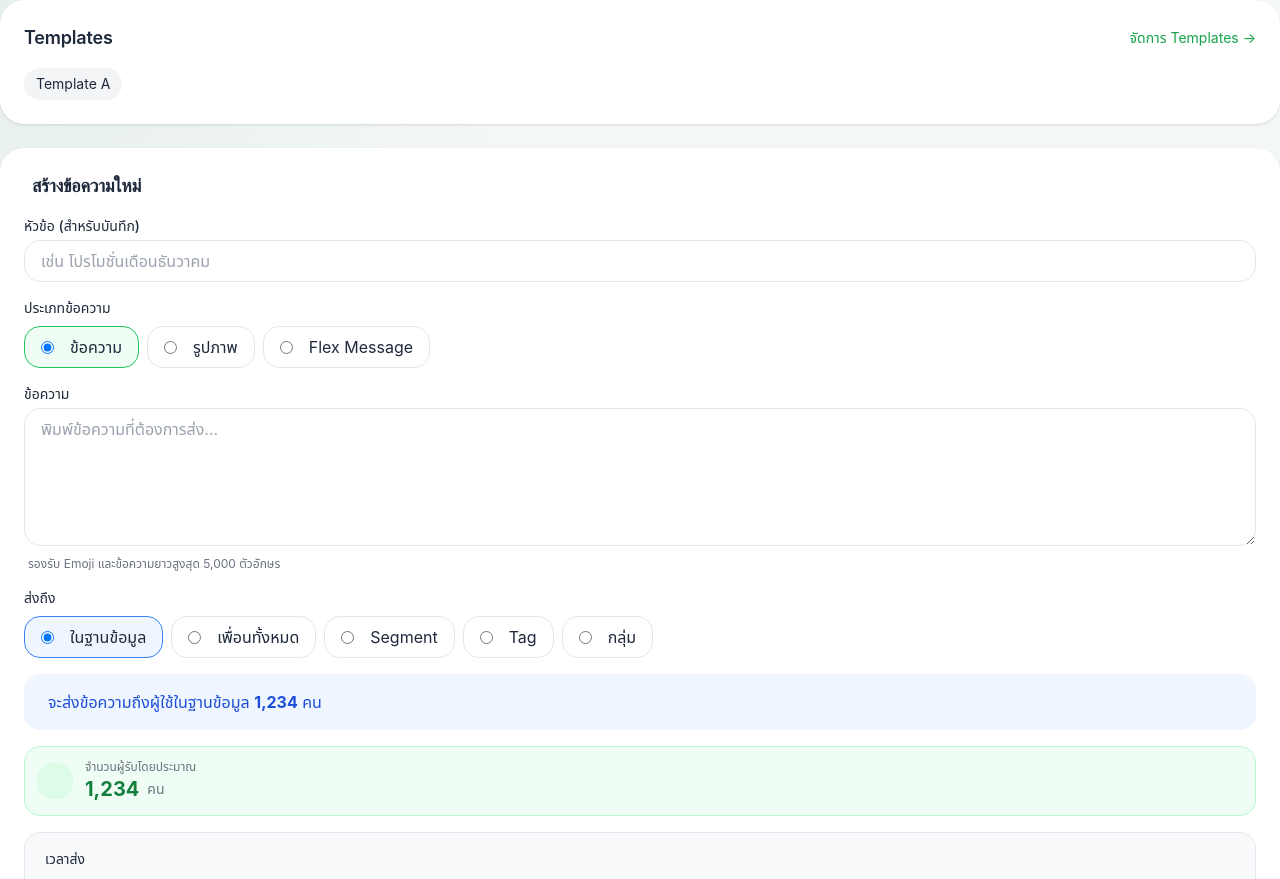
Test: SendComposeForm — message type switching + template quick-load › clicking a template button loads its content into the text textarea and switches message_type
The image size is (1280, 879).
Click the radio button labelled "Flex Message" at (286,347), box x1=280 y1=340 x2=293 y2=354
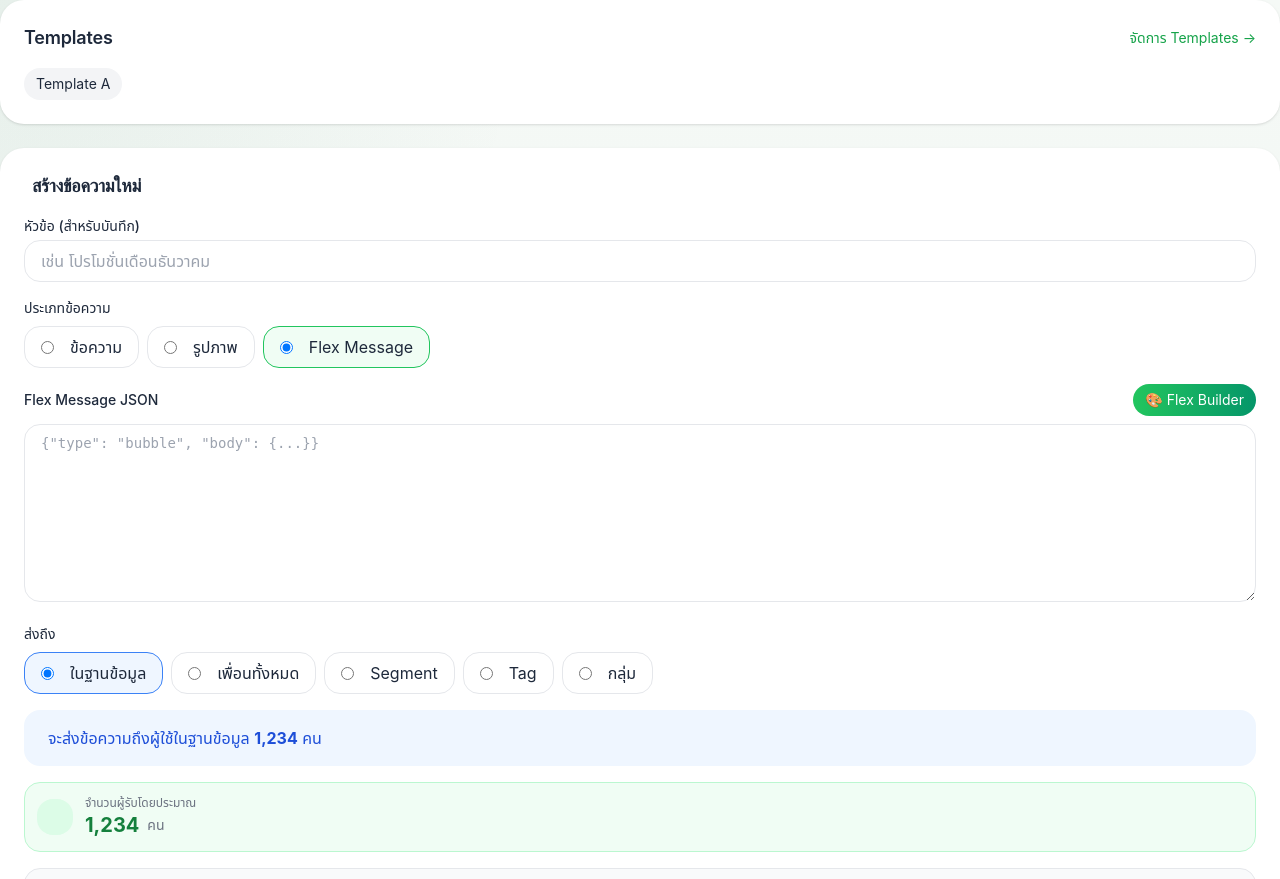
Click the button "Template A" at (73,84), box x1=24 y1=68 x2=122 y2=100
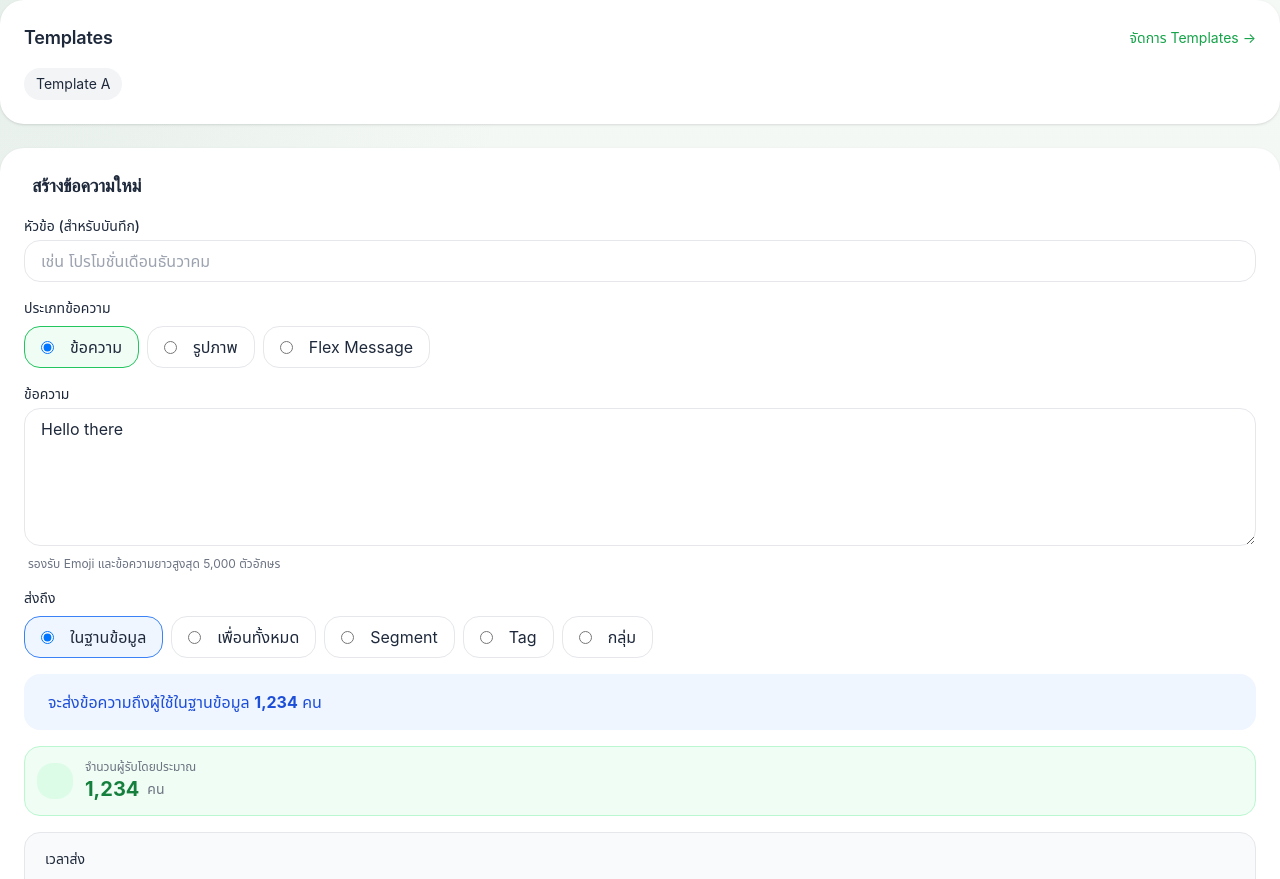
Check: the text box labelled "ข้อความ" holds "Hello there", box x1=24 y1=408 x2=1256 y2=546
